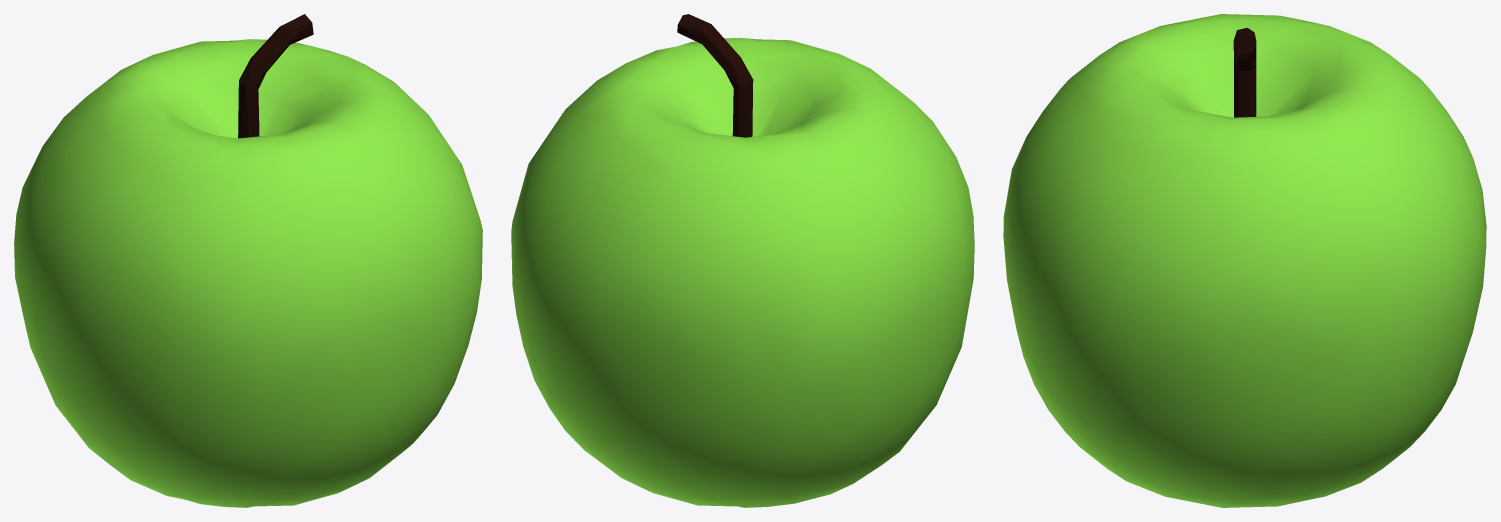
The model's file is Apple.fbx.
The picture shows the model from 3 angles, left to right: view 1: azimuth 30°, elevation 25°; view 2: azimuth 150°, elevation 25°; view 3: azimuth 270°, elevation 25°; orthographic projection. The views are drawn at different scales.
Visible parts, largest first — view 1: Куб; view 2: Куб; view 3: Куб.
Boxes of the visible parts, x1,y1,x2,y2 form: Куб: [14, 14, 482, 507]; Куб: [511, 14, 974, 507]; Куб: [1003, 14, 1486, 507].
Bounding box in the file's own units: 1.63 × 1.68 × 1.63.
